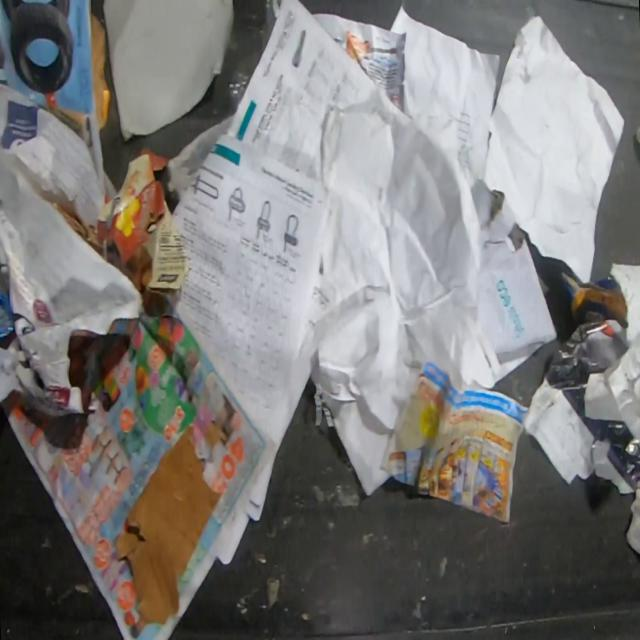cardboard: (96, 145, 194, 291)
soft_plastic: (227, 0, 287, 112)
